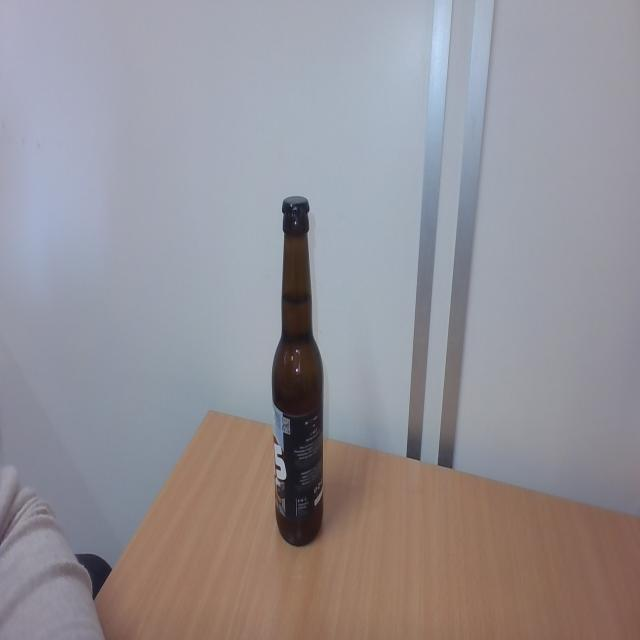Bottle: (270, 224, 324, 546)
Cap: (278, 193, 312, 224)
Label: (270, 405, 322, 524)
